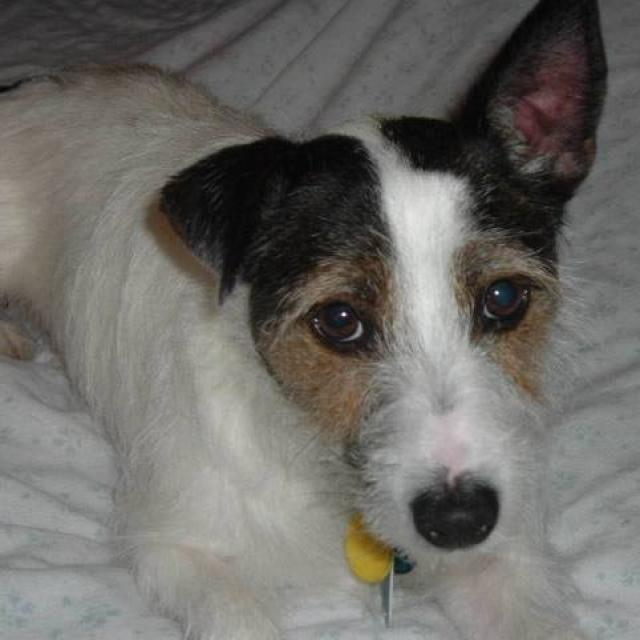dog: (0, 0, 609, 638)
